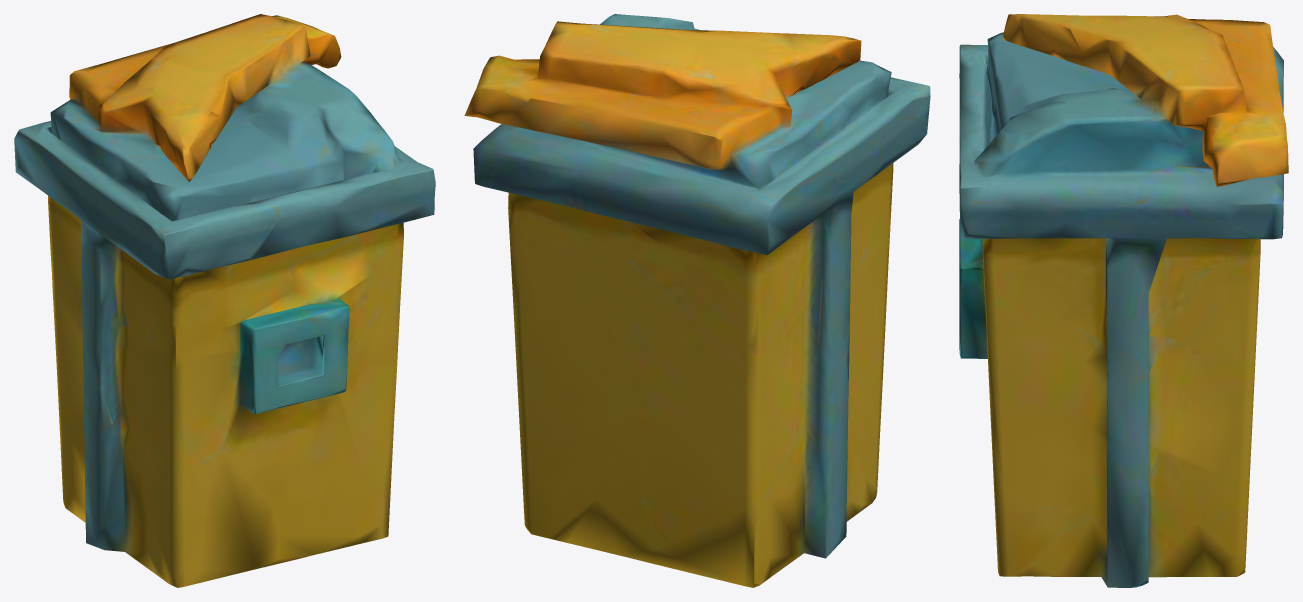
File: bin.glb
3 renders of one model, left to right at view 1: azimuth 30°, elevation 25°; view 2: azimuth 150°, elevation 25°; view 3: azimuth 270°, elevation 25°, orthographic. The views are drawn at different scales.
Visible parts, largest first — view 1: tripo_node_d9bb60d9-334e-4779-8e6e-29194bcf5fdd; view 2: tripo_node_d9bb60d9-334e-4779-8e6e-29194bcf5fdd; view 3: tripo_node_d9bb60d9-334e-4779-8e6e-29194bcf5fdd.
Part boxes in pixels (x1=…): tripo_node_d9bb60d9-334e-4779-8e6e-29194bcf5fdd: x1=14, y1=14, x2=435, y2=587; tripo_node_d9bb60d9-334e-4779-8e6e-29194bcf5fdd: x1=464, y1=14, x2=930, y2=587; tripo_node_d9bb60d9-334e-4779-8e6e-29194bcf5fdd: x1=959, y1=14, x2=1288, y2=587.
Size of the model in its own units: 0.6909 by 1 by 0.6153.
Materials: 1 (1 with a texture image).
